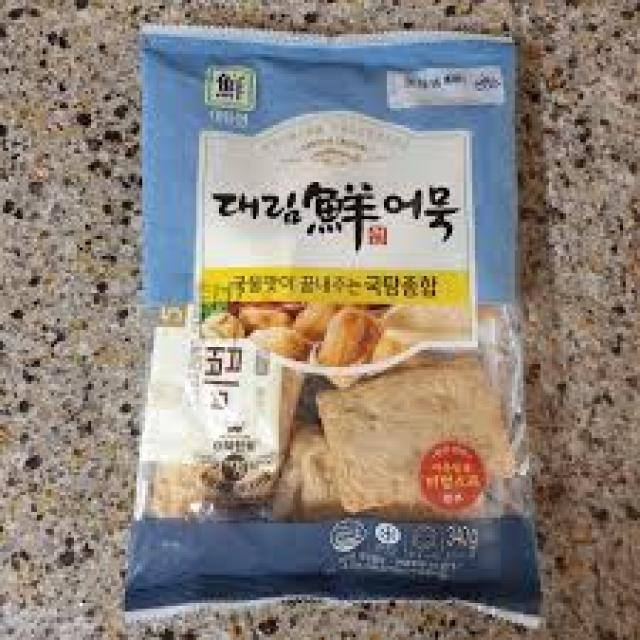fish_cake: (137, 22, 538, 612)
